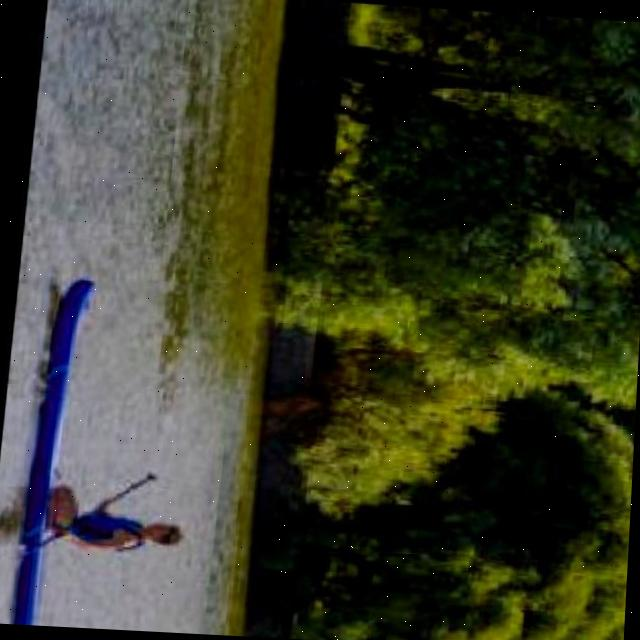kayak: (21, 279, 91, 626)
